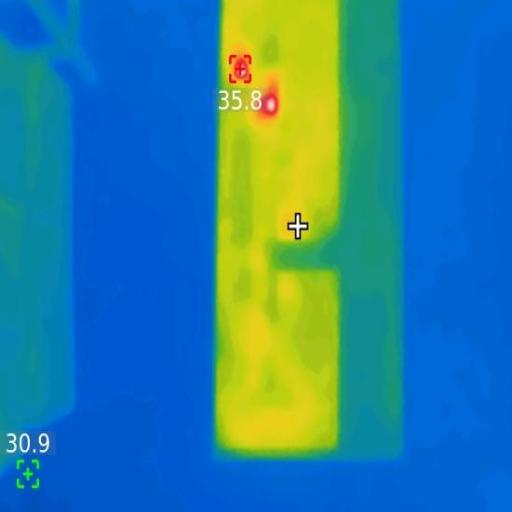hotspot: (233, 62, 249, 80), (263, 98, 277, 114)
